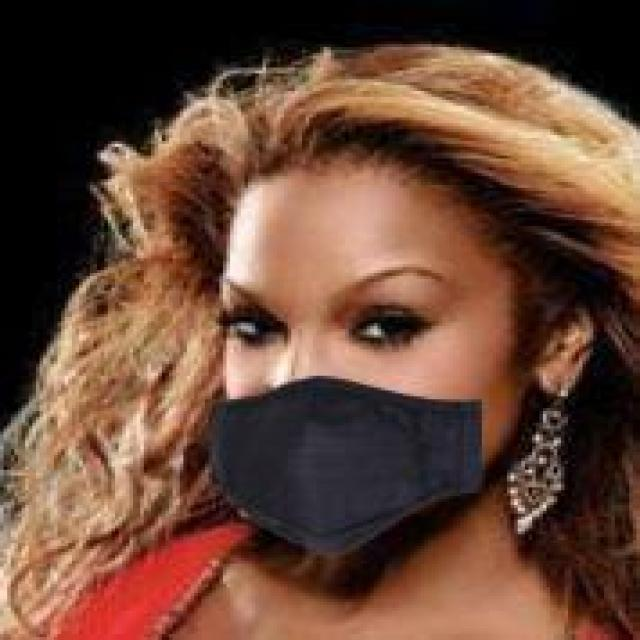mask: (198, 56, 615, 590)
